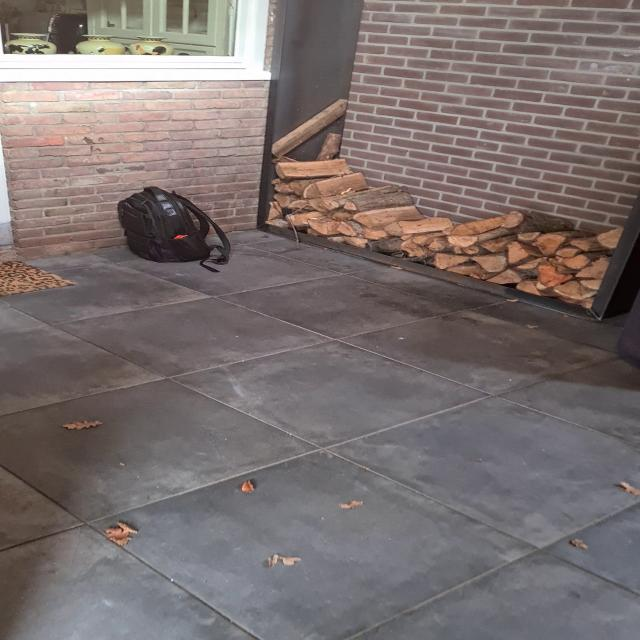backpack: (113, 184, 229, 267)
